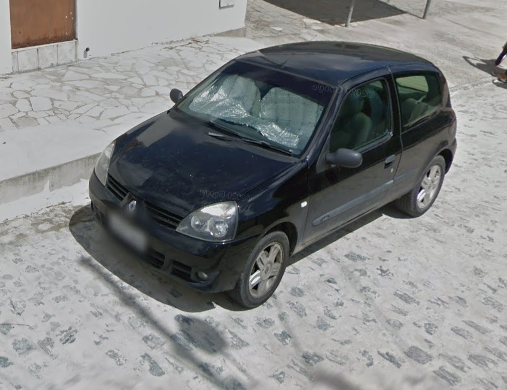car: (86, 37, 460, 310)
